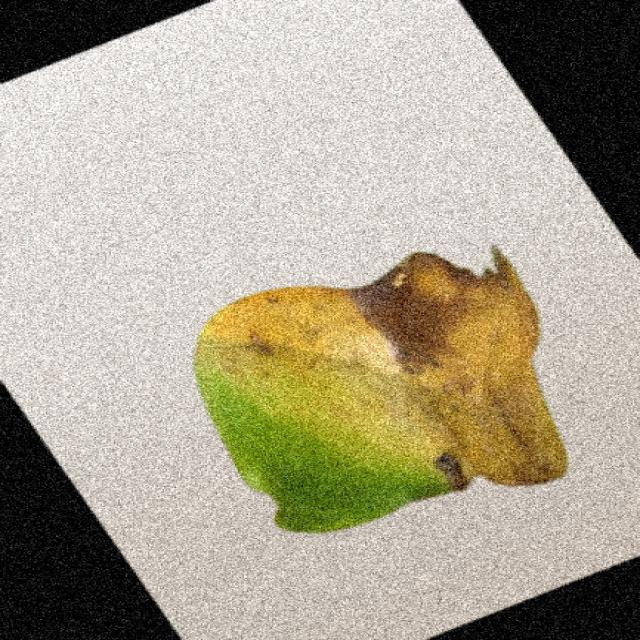daun berpenyakit kuning: (195, 249, 565, 532)
